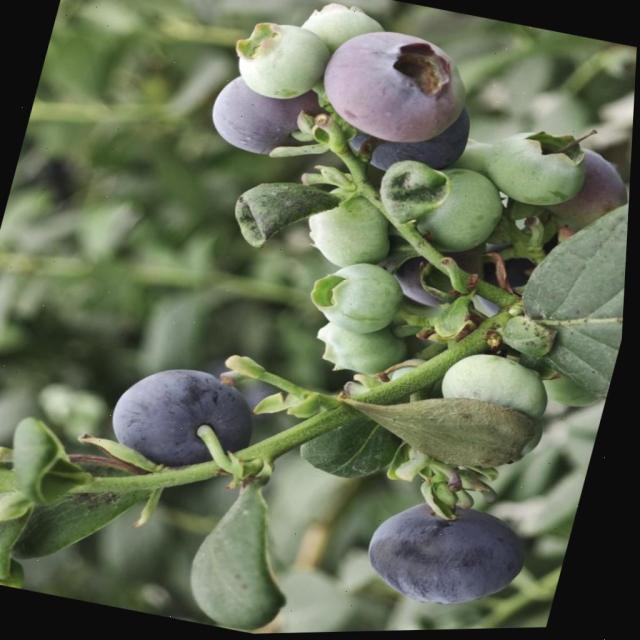RipeBlueBerry: (106, 352, 273, 480)
Semi-RipeBlueBerry: (358, 488, 543, 626), (315, 22, 476, 152)
UnripeBlueBerry: (477, 121, 594, 217), (222, 14, 332, 108), (304, 253, 408, 340)
